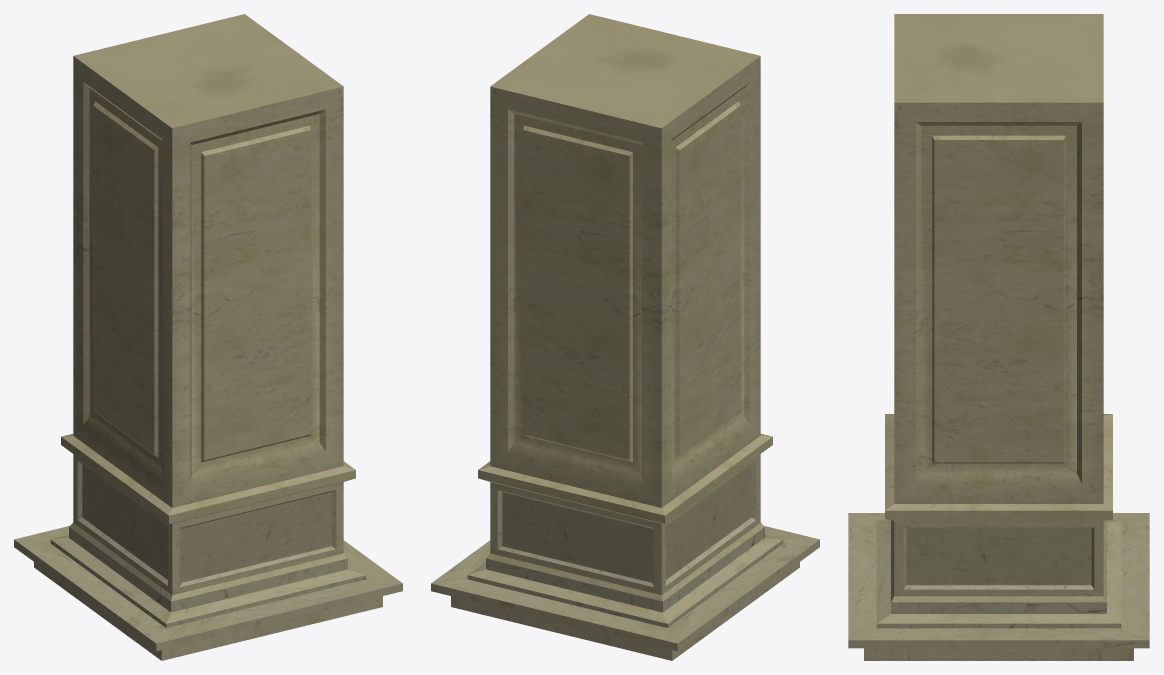
File: Marble_Column_Large_Bottom.gltf
The picture shows the model from 3 angles, left to right: view 1: azimuth 30°, elevation 25°; view 2: azimuth 150°, elevation 25°; view 3: azimuth 270°, elevation 25°; orthographic projection. The views are drawn at different scales.
Visible parts, largest first — view 1: Marble_Column_Large_Bottom; view 2: Marble_Column_Large_Bottom; view 3: Marble_Column_Large_Bottom.
Boxes of the visible parts, x1=… form: Marble_Column_Large_Bottom: x1=14, y1=14, x2=402, y2=660; Marble_Column_Large_Bottom: x1=431, y1=14, x2=819, y2=660; Marble_Column_Large_Bottom: x1=848, y1=14, x2=1149, y2=660.
Bounding box in the file's own units: 2 × 4 × 2.
2 materials, 2 textured.
